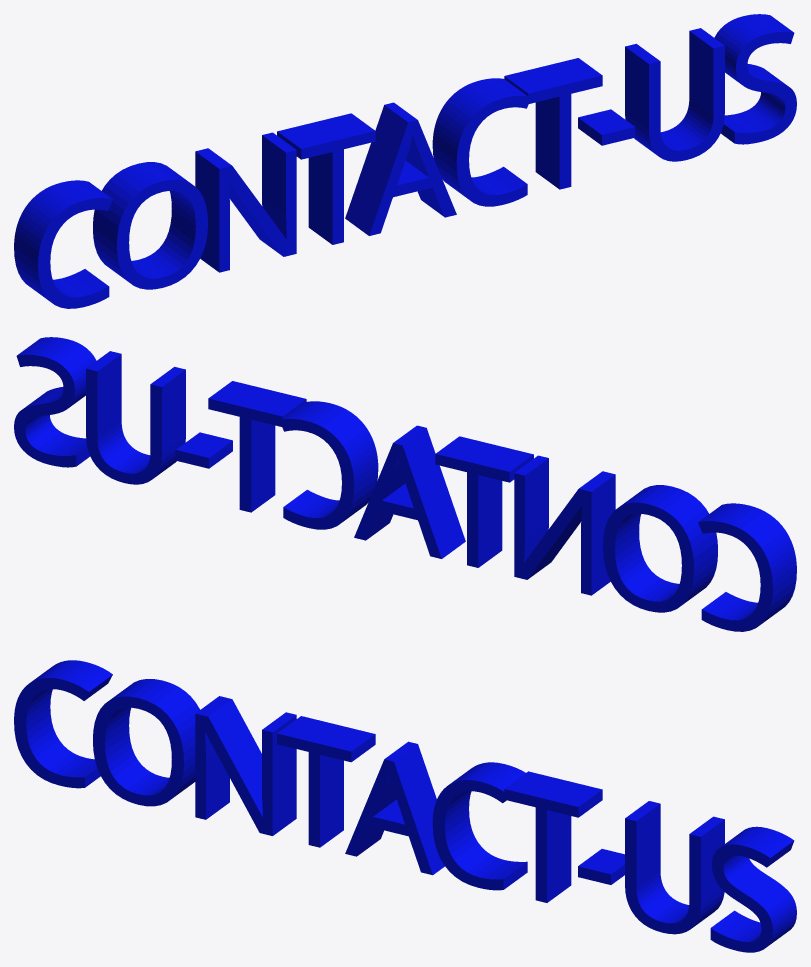
Rendered from Contact.glb.
The picture shows the model from 3 angles, top to bottom: view 1: azimuth 30°, elevation 25°; view 2: azimuth 150°, elevation 25°; view 3: azimuth 330°, elevation 25°; orthographic projection.
Parts seen in each view (by area): view 1: 3D Text - C (×2), 3D Text - T (×2), 3D Text - O, 3D Text - U, 3D Text - N, 3D Text - A, 3D Text - S, 3D Text - -; view 2: 3D Text - C (×2), 3D Text - T (×2), 3D Text - O, 3D Text - U, 3D Text - N, 3D Text - A, 3D Text - S, 3D Text - -; view 3: 3D Text - C (×2), 3D Text - T (×2), 3D Text - N, 3D Text - O, 3D Text - U, 3D Text - S, 3D Text - A, 3D Text - -.
Boxes of the visible parts, x1,y1,x2,y2 form: 3D Text - C (×2): (14, 78, 528, 308); 3D Text - T (×2): (277, 58, 602, 244); 3D Text - O: (93, 162, 207, 289); 3D Text - U: (625, 28, 724, 161); 3D Text - N: (195, 132, 296, 272); 3D Text - A: (345, 102, 456, 235); 3D Text - S: (714, 14, 796, 144); 3D Text - -: (578, 109, 635, 145); 3D Text - C (×2): (279, 401, 796, 631); 3D Text - T (×2): (208, 381, 533, 567); 3D Text - O: (603, 485, 717, 612); 3D Text - U: (86, 351, 185, 484); 3D Text - N: (514, 455, 615, 595); 3D Text - A: (354, 425, 465, 558); 3D Text - S: (14, 337, 96, 467); 3D Text - -: (175, 432, 232, 468); 3D Text - C (×2): (14, 660, 527, 890); 3D Text - T (×2): (277, 716, 602, 902); 3D Text - N: (195, 696, 296, 835); 3D Text - O: (93, 679, 199, 806); 3D Text - U: (625, 801, 724, 934); 3D Text - S: (710, 826, 796, 952); 3D Text - A: (345, 741, 444, 875); 3D Text - -: (578, 849, 624, 884).
Bounding box in the file's own units: 1.13 × 0.1517 × 0.0619.
